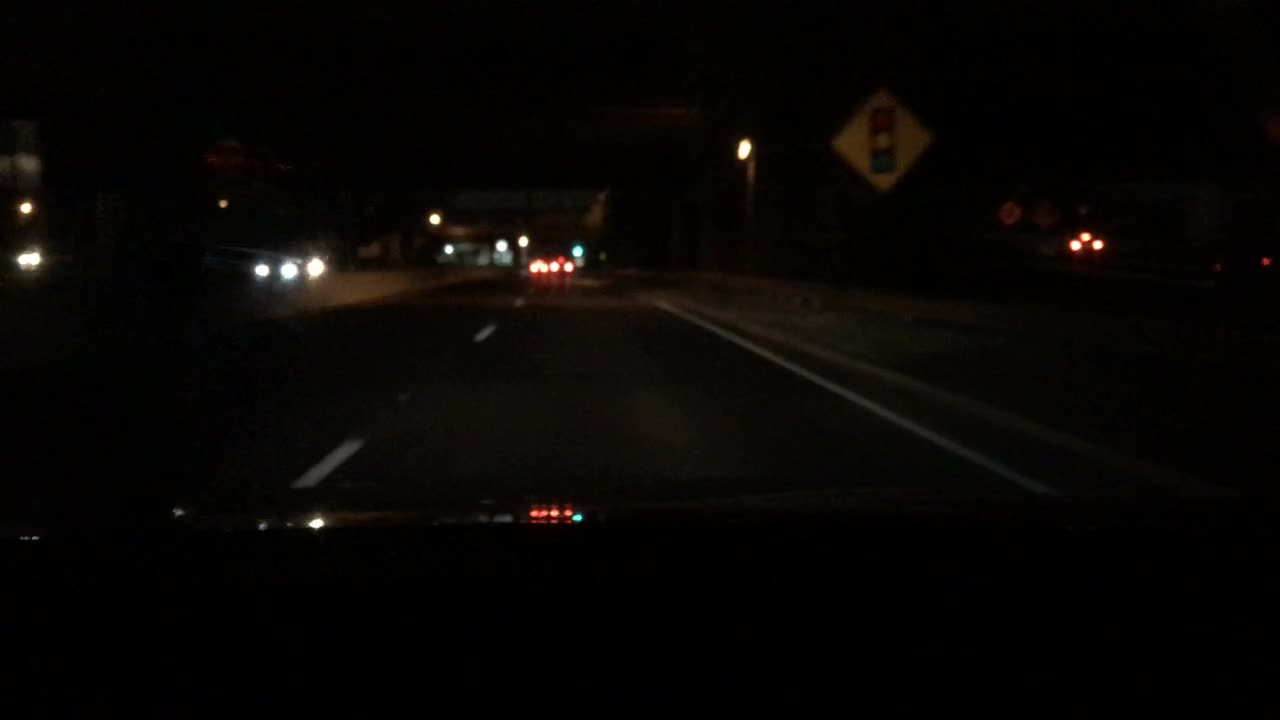car: (249, 251, 301, 284), (1064, 230, 1107, 256), (302, 253, 331, 277), (549, 254, 576, 274), (528, 258, 549, 274)
traffic light: (568, 244, 585, 257)
traffic sign: (826, 82, 931, 192), (998, 199, 1021, 225)
